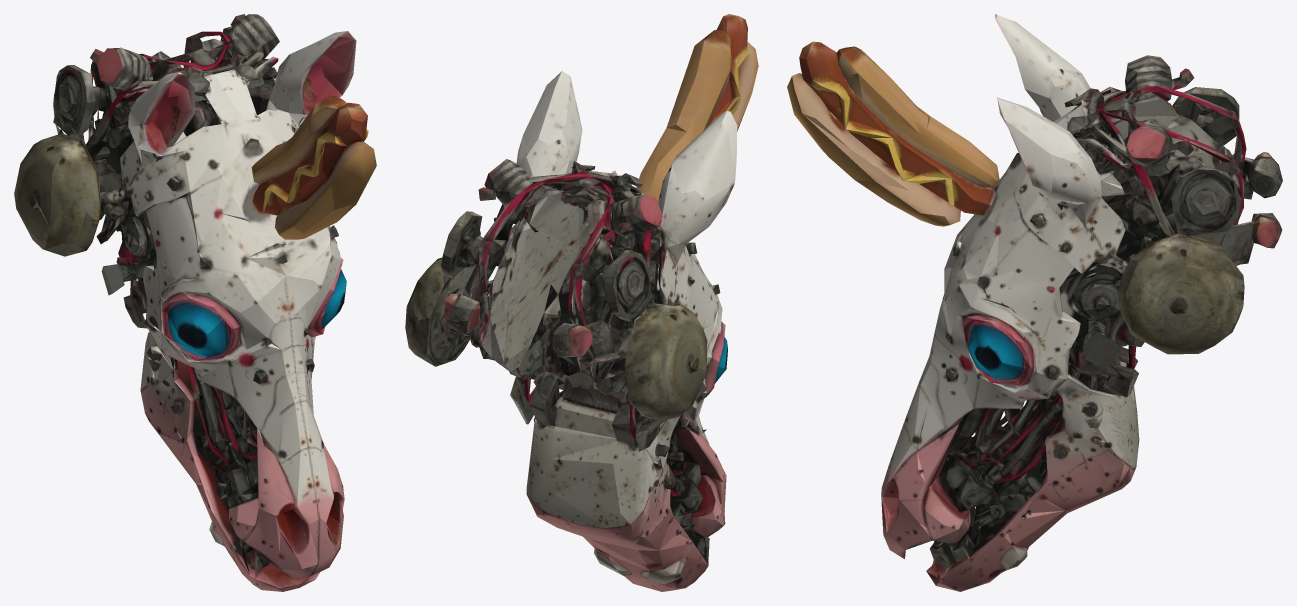
Rendered from hotdoghorn.glb.
3 renders of one model, left to right at view 1: azimuth 30°, elevation 25°; view 2: azimuth 150°, elevation 25°; view 3: azimuth 270°, elevation 25°, orthographic. The views are drawn at different scales.
Visible parts, largest first — view 1: output_unwrapped.001; view 2: output_unwrapped.001; view 3: output_unwrapped.001.
Part boxes in pixels (bbox=[...]): output_unwrapped.001: bbox=[14, 14, 376, 591]; output_unwrapped.001: bbox=[405, 14, 758, 591]; output_unwrapped.001: bbox=[787, 14, 1282, 591].
Bounding box in the file's own units: 1.33 × 2.38 × 1.98.
2 materials, 2 textured.
